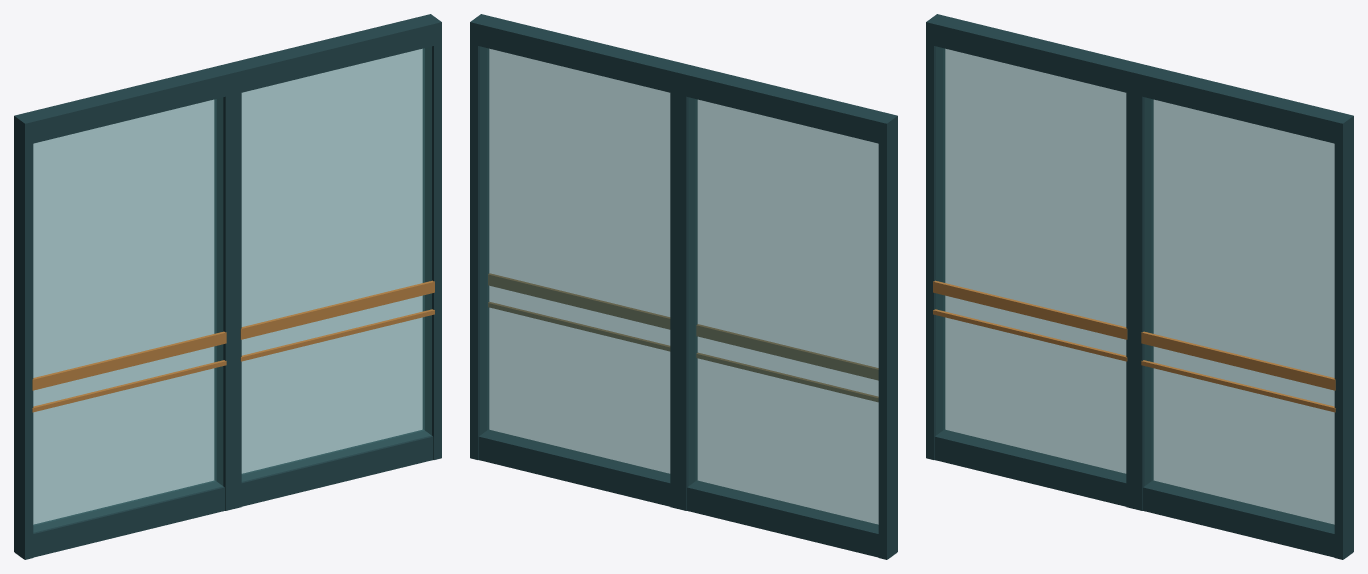
Rendered from port-pickup-doors.glb.
3 renders of one model, left to right at view 1: azimuth 30°, elevation 25°; view 2: azimuth 150°, elevation 25°; view 3: azimuth 330°, elevation 25°, orthographic.
Visible parts, largest first — view 1: PICKUP COURT moving glass.001, PICKUP COURT moving glass, PICKUP COURT leaf stile, PICKUP COURT leaf stile.001, PICKUP COURT leaf stile.003, PICKUP COURT top shoe, PICKUP COURT top shoe.001, PICKUP COURT kick rail, PICKUP COURT kick rail.001, PICKUP COURT leaf stile.002, PICKUP COURT safety stripe, PICKUP COURT safety stripe.001 (+2 smaller); view 2: PICKUP COURT moving glass.001, PICKUP COURT moving glass, PICKUP COURT leaf stile, PICKUP COURT leaf stile.001, PICKUP COURT leaf stile.003, PICKUP COURT top shoe, PICKUP COURT top shoe.001, PICKUP COURT kick rail, PICKUP COURT kick rail.001, PICKUP COURT leaf stile.002, PICKUP COURT safety stripe, PICKUP COURT safety stripe.001 (+2 smaller); view 3: PICKUP COURT moving glass, PICKUP COURT moving glass.001, PICKUP COURT leaf stile.003, PICKUP COURT leaf stile.002, PICKUP COURT leaf stile, PICKUP COURT top shoe.001, PICKUP COURT top shoe, PICKUP COURT kick rail, PICKUP COURT kick rail.001, PICKUP COURT leaf stile.001, PICKUP COURT safety stripe.001, PICKUP COURT safety stripe (+2 smaller).
Part boxes in pixels (<box>): PICKUP COURT moving glass.001: <box>241,46,431,481</box>; PICKUP COURT moving glass: <box>33,97,222,532</box>; PICKUP COURT leaf stile: <box>14,114,33,559</box>; PICKUP COURT leaf stile.001: <box>214,65,233,510</box>; PICKUP COURT leaf stile.003: <box>423,14,441,459</box>; PICKUP COURT top shoe: <box>14,65,233,144</box>; PICKUP COURT top shoe.001: <box>224,14,441,94</box>; PICKUP COURT kick rail: <box>14,480,224,558</box>; PICKUP COURT kick rail.001: <box>241,429,433,506</box>; PICKUP COURT leaf stile.002: <box>223,63,241,508</box>; PICKUP COURT safety stripe: <box>32,331,226,390</box>; PICKUP COURT safety stripe.001: <box>240,280,434,339</box>; PICKUP COURT moving glass.001: <box>480,46,670,481</box>; PICKUP COURT moving glass: <box>689,97,878,532</box>; PICKUP COURT leaf stile: <box>878,114,897,559</box>; PICKUP COURT leaf stile.001: <box>678,65,697,510</box>; PICKUP COURT leaf stile.003: <box>470,14,488,459</box>; PICKUP COURT top shoe: <box>678,65,897,144</box>; PICKUP COURT top shoe.001: <box>470,14,688,94</box>; PICKUP COURT kick rail: <box>687,480,897,559</box>; PICKUP COURT kick rail.001: <box>478,429,670,506</box>; PICKUP COURT leaf stile.002: <box>670,63,688,508</box>; PICKUP COURT safety stripe: <box>696,324,878,380</box>; PICKUP COURT safety stripe.001: <box>488,273,669,329</box>; PICKUP COURT moving glass: <box>936,46,1126,481</box>; PICKUP COURT moving glass.001: <box>1145,97,1334,532</box>; PICKUP COURT leaf stile.003: <box>1334,114,1353,559</box>; PICKUP COURT leaf stile.002: <box>1134,65,1153,510</box>; PICKUP COURT leaf stile: <box>926,14,944,459</box>; PICKUP COURT top shoe.001: <box>1134,65,1353,144</box>; PICKUP COURT top shoe: <box>926,14,1144,94</box>; PICKUP COURT kick rail: <box>934,429,1126,506</box>; PICKUP COURT kick rail.001: <box>1143,480,1352,558</box>; PICKUP COURT leaf stile.001: <box>1126,63,1144,508</box>; PICKUP COURT safety stripe.001: <box>1141,331,1335,390</box>; PICKUP COURT safety stripe: <box>933,280,1127,339</box>.
Bounding box in the file's own units: 2.6 × 2.6 × 0.124.
